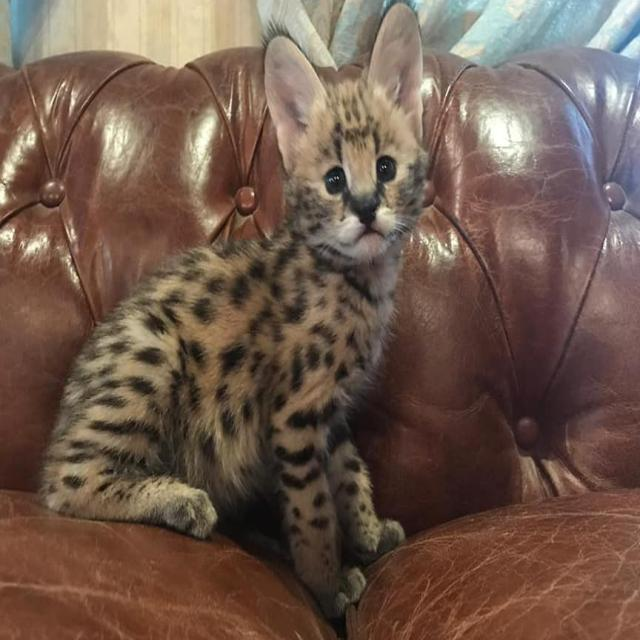Savannah: (38, 0, 430, 621)
